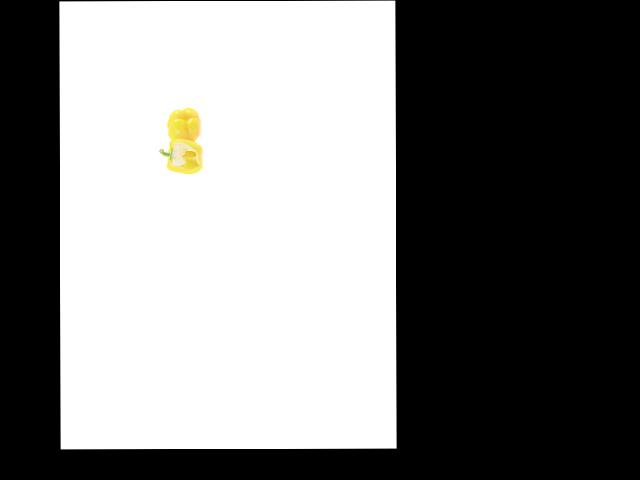bell_pepper: (158, 132, 211, 176)
